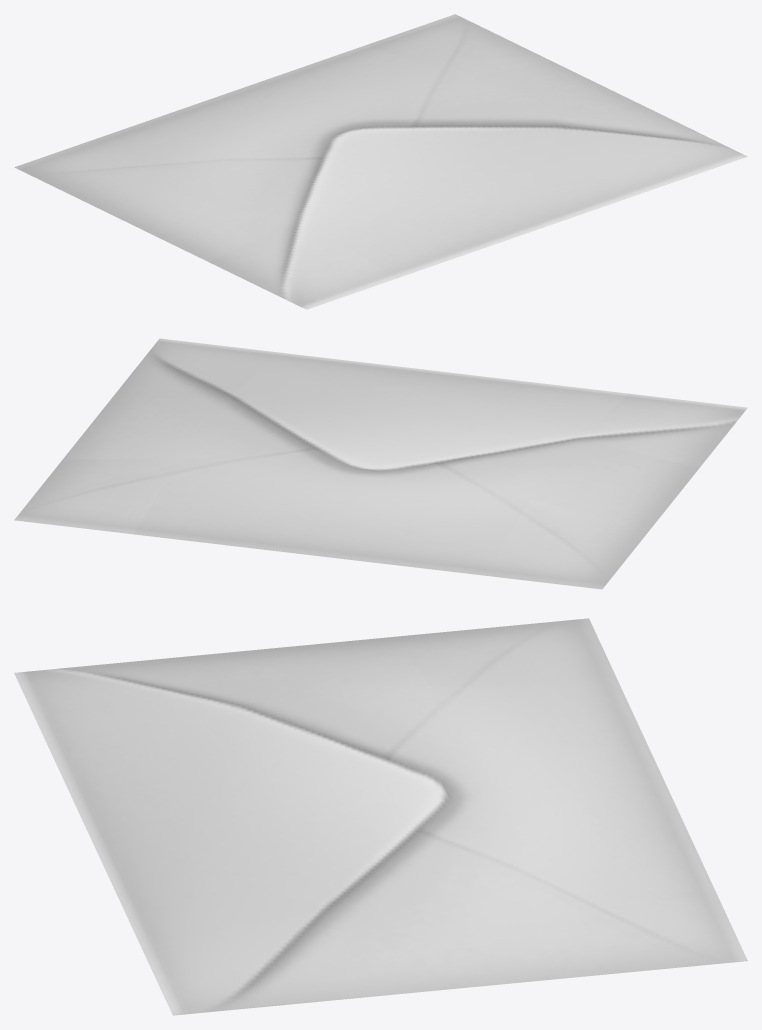
The model's file is ShenMiRenJia_01_xinjian_01.FBX.
3 views of the same model, one above another, from view 1: azimuth 30°, elevation 25°; view 2: azimuth 150°, elevation 25°; view 3: azimuth 270°, elevation 25° (orthographic). The views are drawn at different scales.
Visible parts, largest first — view 1: ShenMiRenJia_01_xinjian_01; view 2: ShenMiRenJia_01_xinjian_01; view 3: ShenMiRenJia_01_xinjian_01.
Part boxes in pixels (x1=…): ShenMiRenJia_01_xinjian_01: x1=14, y1=14, x2=747, y2=309; ShenMiRenJia_01_xinjian_01: x1=14, y1=338, x2=747, y2=589; ShenMiRenJia_01_xinjian_01: x1=14, y1=618, x2=747, y2=1015.
Bounding box in the file's own units: 110 × 4.92 × 90.92.
